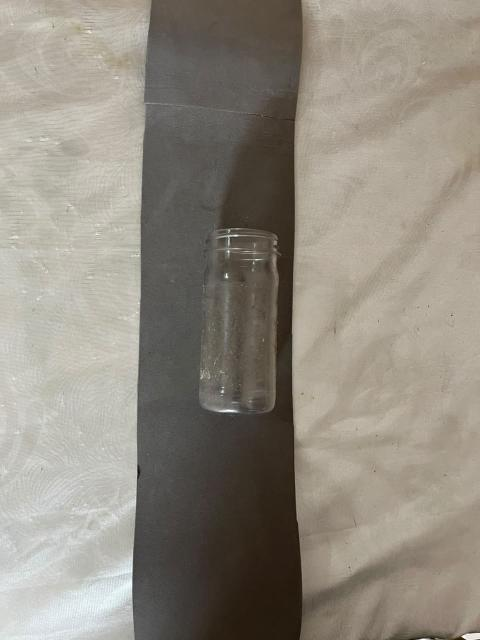PET: (160, 155, 351, 530)
